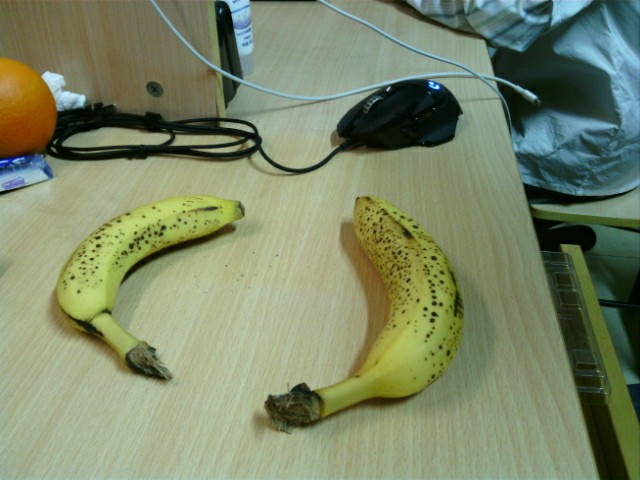normal_banana: (263, 197, 461, 431), (55, 196, 243, 383)
